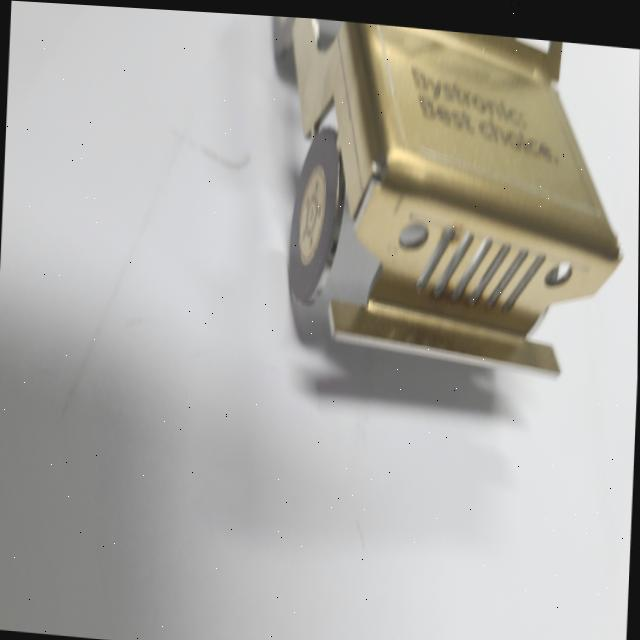tire: (287, 118, 348, 306), (271, 13, 302, 76)
